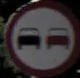No overtake: (5, 6, 72, 65)
